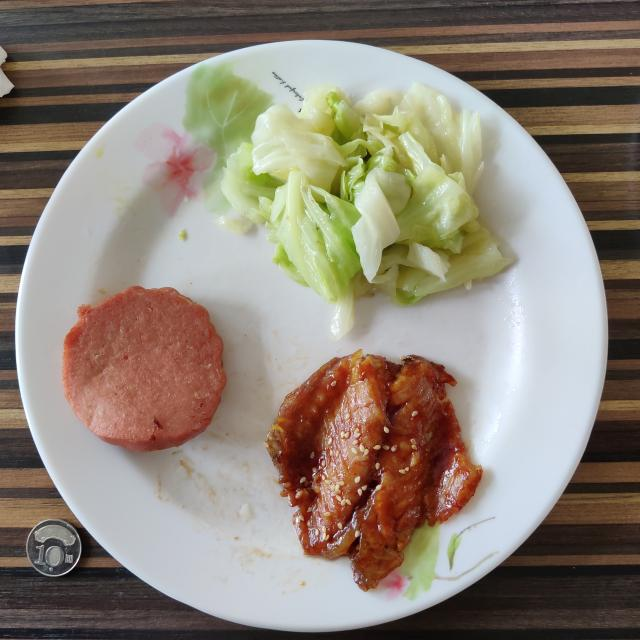Kabayaki sea bream fillet: (266, 351, 481, 590)
Spam: (62, 286, 226, 451)
cabbage: (222, 85, 505, 331)
coin: (26, 519, 81, 576)
